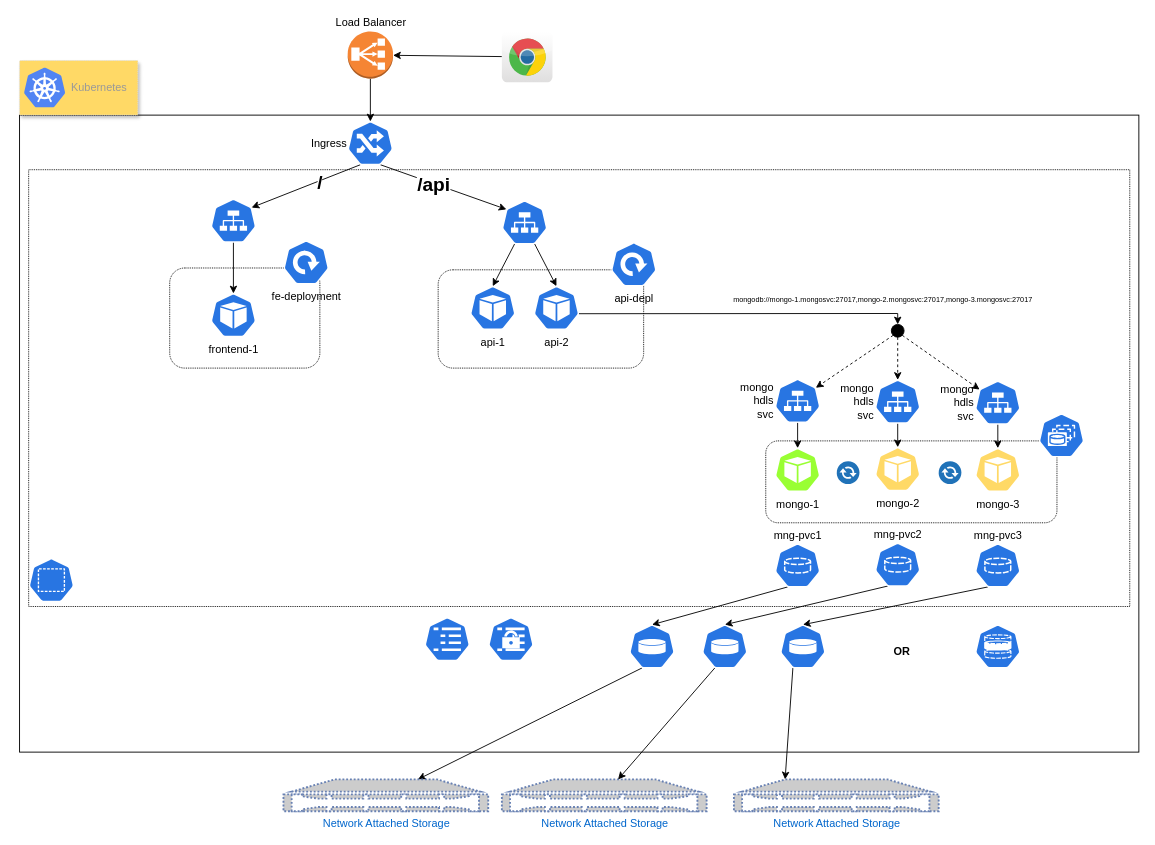
Image size: 1155x845. Some labels were removed from this diagram. The centre of each missing label's shape, as x and y in pixels:
api - service Internal: point (524, 222)
App Namespace: point (51, 579)
fe - service Internal: point (233, 220)
mongo rel secret: point (510, 639)
mongo rel. config map: point (447, 639)
mongo-pv1: point (651, 646)
mongo-pv2: point (724, 646)
mongo-pv3: point (802, 646)
mongodb-sts: point (1061, 435)
Storage Class: point (997, 646)
